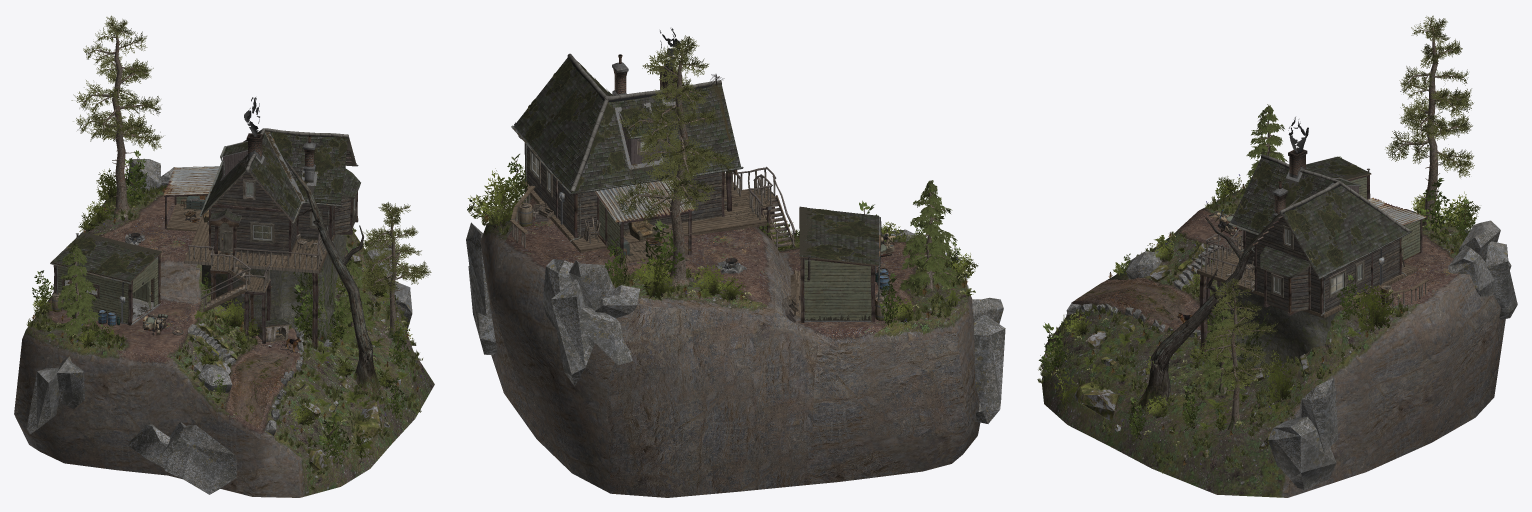
The model's file is 1GGP04_Mykhalevych_Vitalii_Diorama.fbx.
The picture shows the model from 3 angles, left to right: view 1: azimuth 30°, elevation 25°; view 2: azimuth 150°, elevation 25°; view 3: azimuth 270°, elevation 25°; orthographic projection. The views are drawn at different scales.
Parts seen in each view (by area): view 1: SM_Ground, SM_House, SM_Vegetations, SM_Trees, SM_Rocks, SM_Garage, SM_Decals, SM_HouseSide, SM_Stairs, SM_RocksMossy, SM_DogHouse, SM_Motorcycle; view 2: SM_Ground, SM_House, SM_Trees, SM_Rocks, SM_Vegetations, SM_Garage, SM_HouseSide, SM_Decals, SM_Stairs; view 3: SM_Ground, SM_House, SM_Vegetations, SM_Trees, SM_Rocks, SM_Decals, SM_RocksMossy, SM_Stairs, SM_HouseSide, SM_Garage.
Boxes of the visible parts, x1,y1,x2,y2 form: SM_Ground: (14,189,434,497); SM_House: (184,128,360,349); SM_Vegetations: (26,150,422,490); SM_Trees: (57,15,431,397); SM_Rocks: (26,159,412,494); SM_Garage: (50,232,161,325); SM_Decals: (119,97,356,427); SM_HouseSide: (129,166,219,244); SM_Stairs: (188,233,325,311); SM_RocksMossy: (191,255,420,470); SM_DogHouse: (257,319,290,342); SM_Motorcycle: (142,314,183,335); SM_Ground: (480,196,980,497); SM_House: (511,53,777,252); SM_Trees: (521,35,962,294); SM_Rocks: (466,222,1005,423); SM_Vegetations: (467,154,978,326); SM_Garage: (782,206,889,322); SM_HouseSide: (583,180,737,272); SM_Decals: (513,28,882,278); SM_Stairs: (510,166,796,248); SM_Ground: (1042,188,1505,497); SM_House: (1197,146,1417,374); SM_Vegetations: (1037,156,1480,473); SM_Trees: (1138,15,1474,429); SM_Rocks: (1066,199,1517,489); SM_Decals: (1075,117,1432,326); SM_RocksMossy: (1042,243,1309,457); SM_Stairs: (1200,227,1428,309); SM_HouseSide: (1367,197,1426,268); SM_Garage: (1306,156,1371,199).
Bounding box in the file's own units: 2843 × 2341 × 2799.
